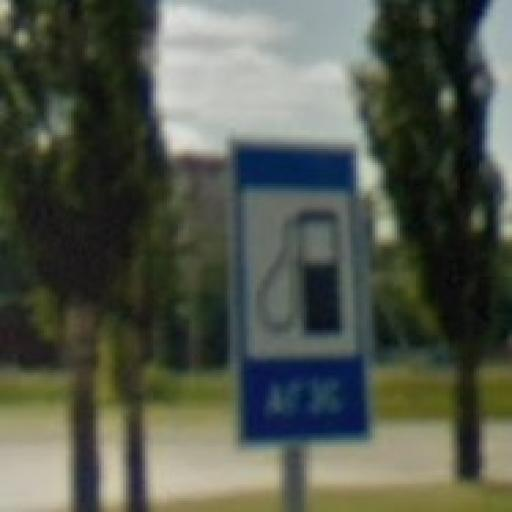traffic_sign: (226, 136, 376, 448)
